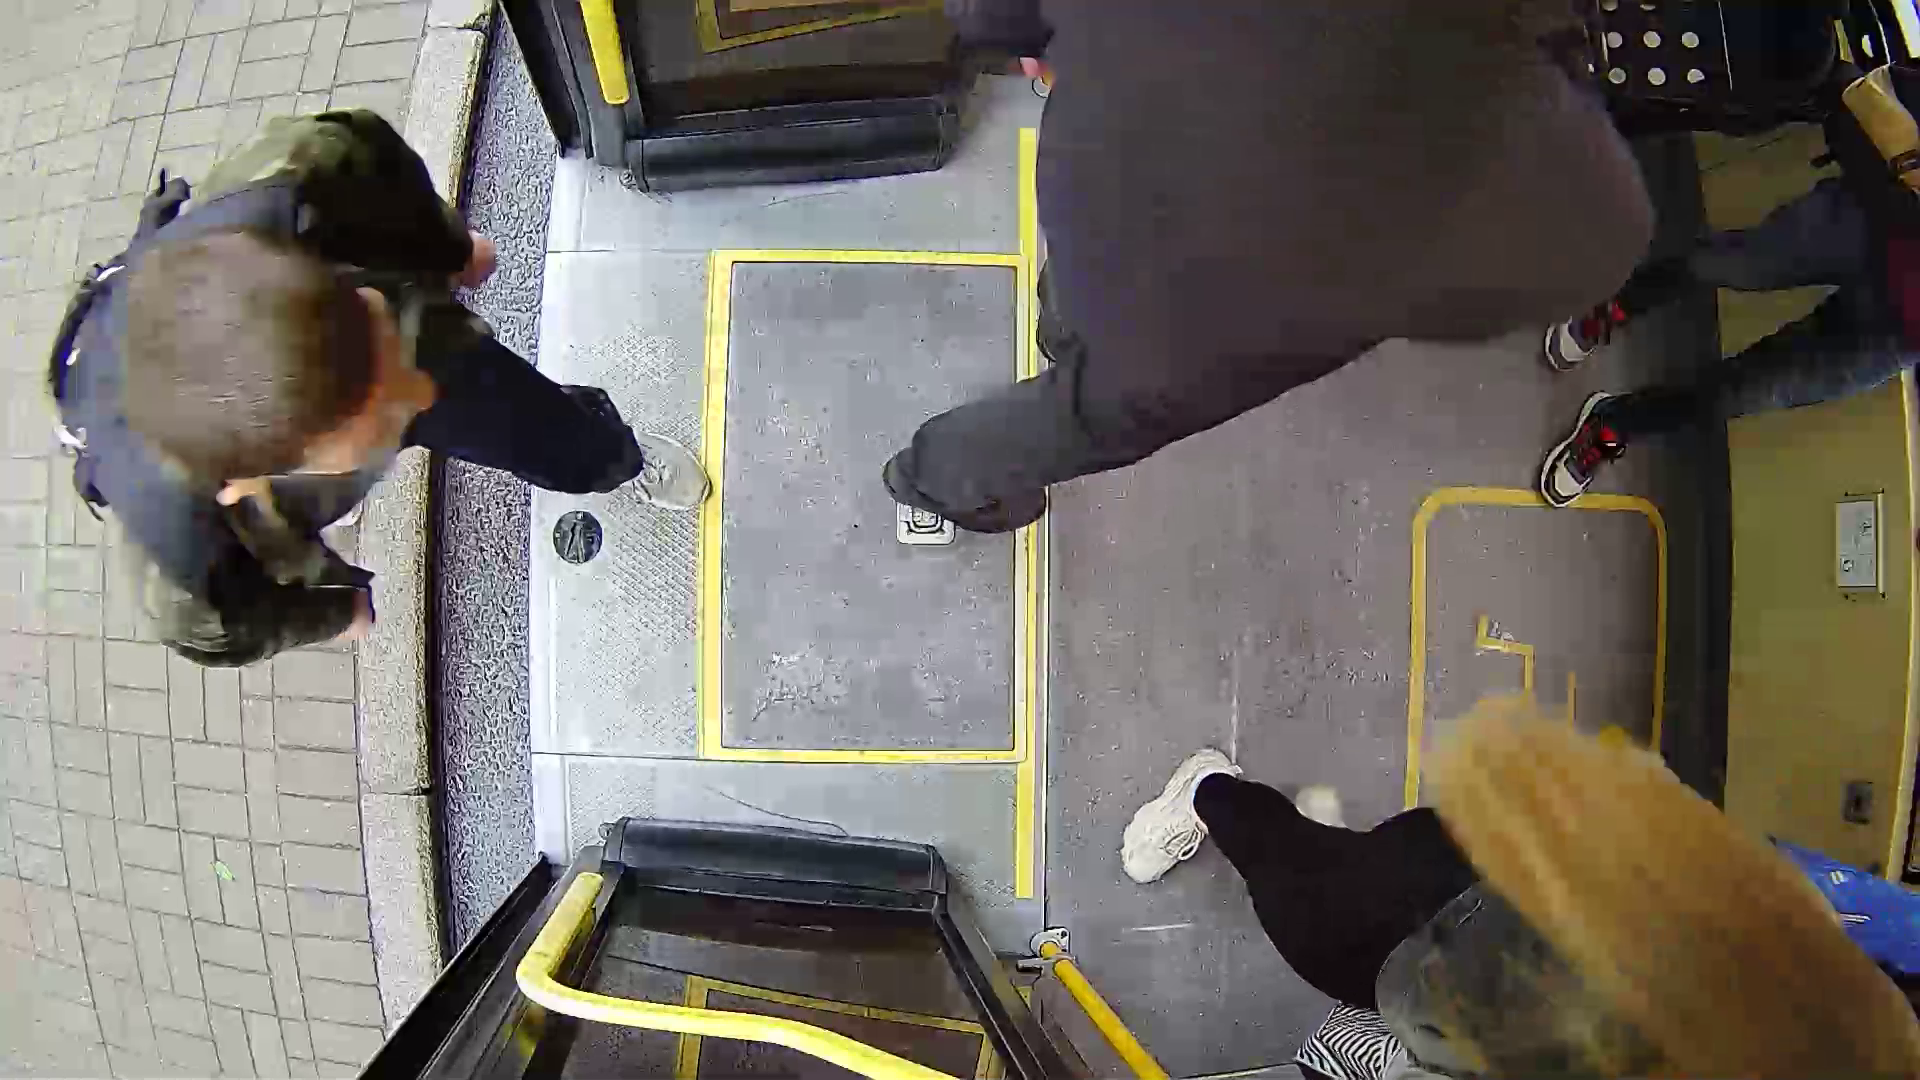person: (69, 132, 729, 647)
